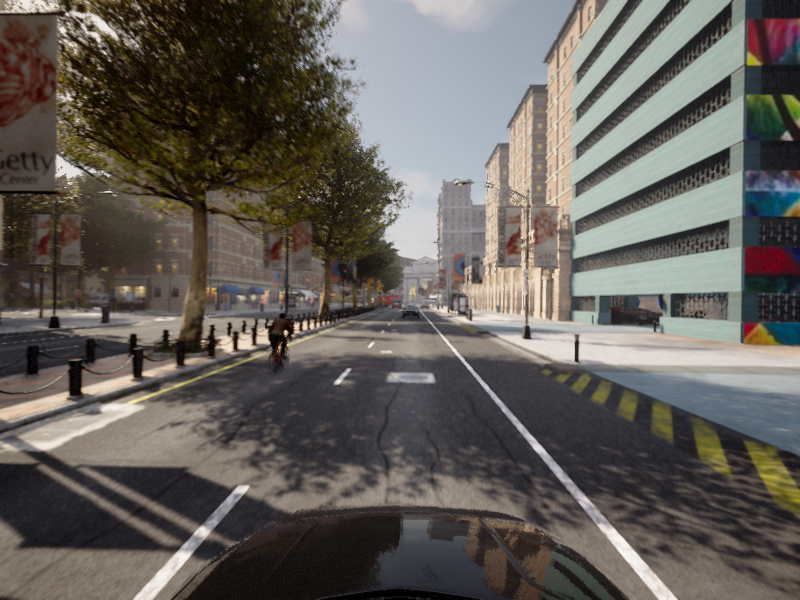vehicle: (257, 312, 300, 379), (1, 283, 9, 451), (402, 305, 419, 318)
